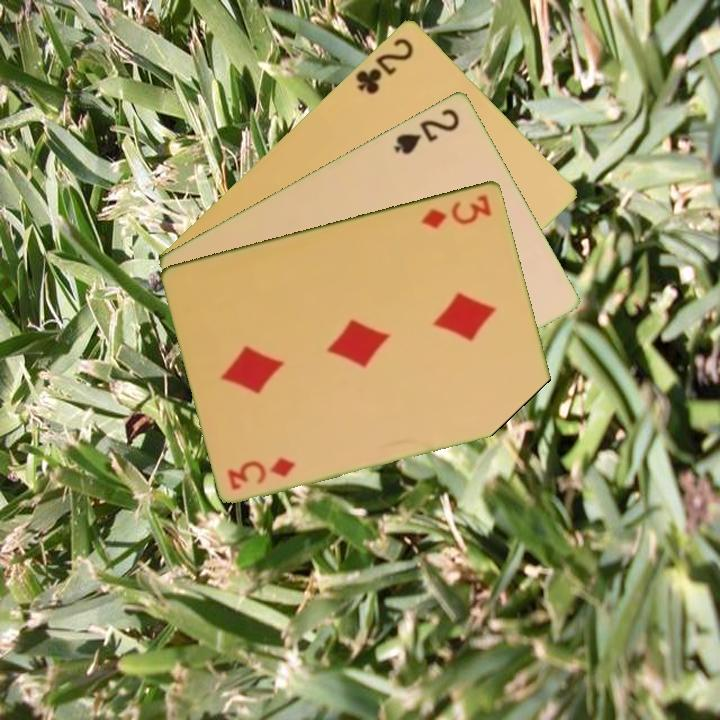2c: (352, 34, 416, 97)
2s: (390, 104, 463, 157)
3d: (418, 190, 495, 232), (224, 453, 298, 492)
